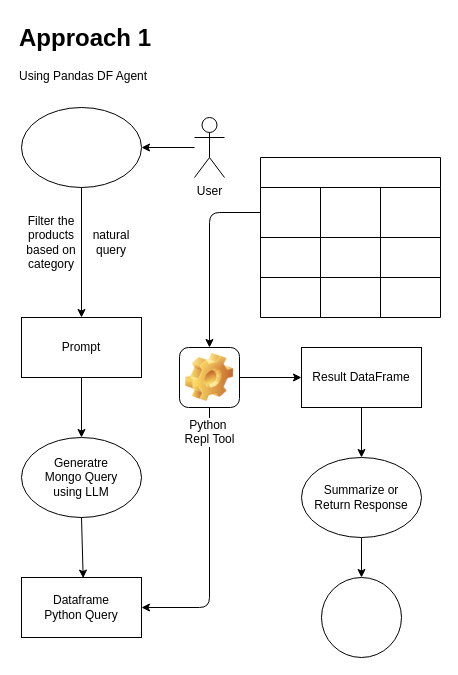
Some shapes in this 458 by 675 pixel diagram are drawn without their labels. Each missing label, with the box of its shape:
CSV FILE: (260, 156, 440, 318)
Exit: (320, 576, 402, 658)
Question Asking: (20, 106, 142, 188)
